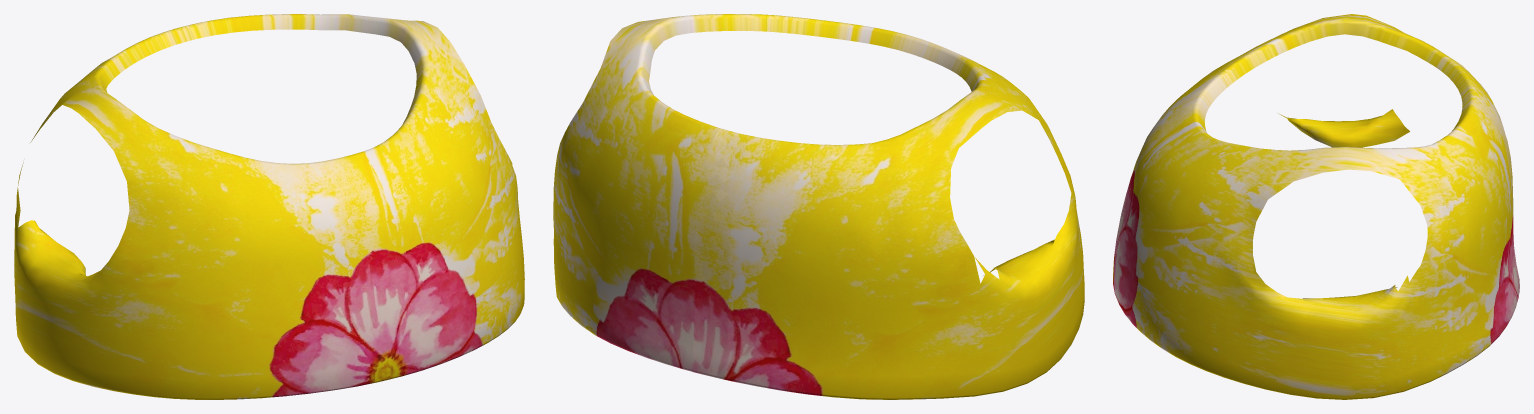
Rendered from hb_hani_top.gltf.
The picture shows the model from 3 angles, left to right: view 1: azimuth 30°, elevation 25°; view 2: azimuth 150°, elevation 25°; view 3: azimuth 270°, elevation 25°; orthographic projection. The views are drawn at different scales.
Visible parts, largest first — view 1: hb_hani_top; view 2: hb_hani_top; view 3: hb_hani_top.
Part boxes in pixels (box(x1,y1,x2,y2)): hb_hani_top: box(14, 14, 524, 399); hb_hani_top: box(553, 14, 1084, 399); hb_hani_top: box(1113, 14, 1519, 399).
Bounding box in the file's own units: 0.0342 × 0.0175 × 0.0295.
1 material, 1 textured.
